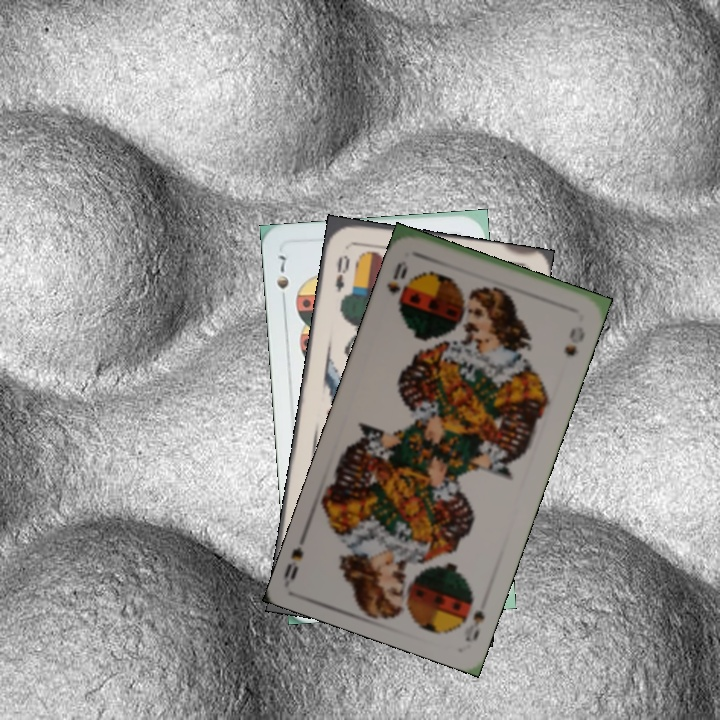EO: (331, 251, 353, 295)
S7: (272, 251, 292, 308)
SO: (382, 257, 411, 296), (461, 606, 488, 645)
